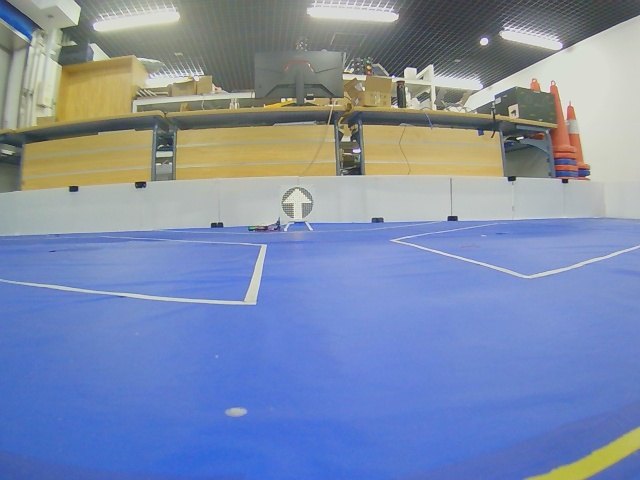straight_yellow: (281, 187, 314, 221)
